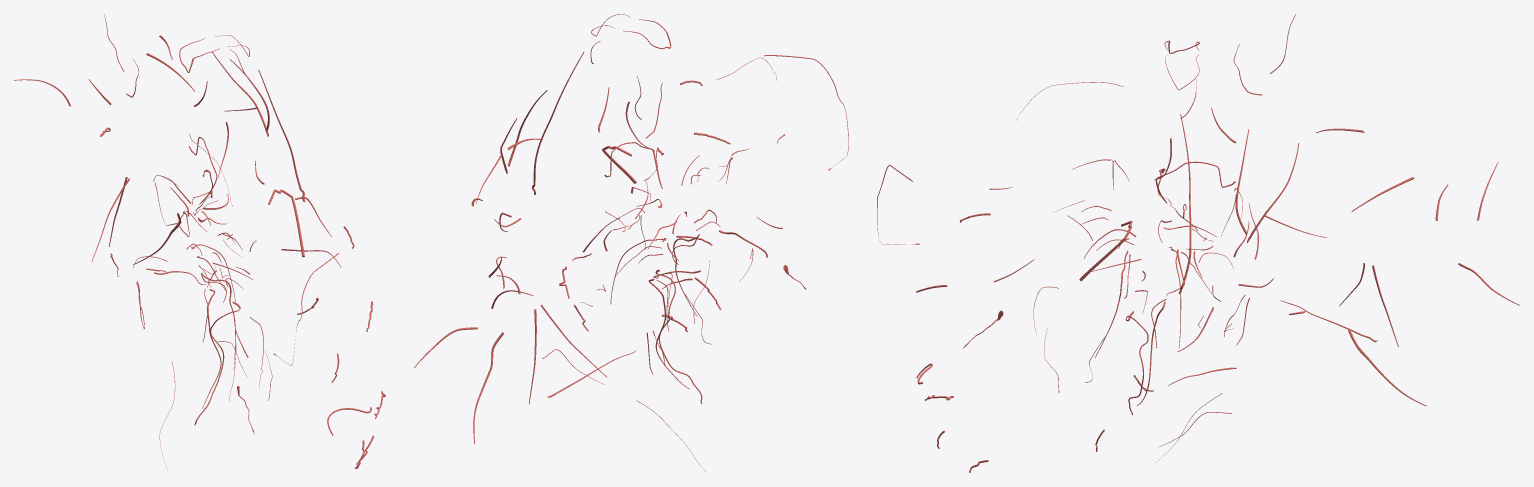
3 views of the same model, side by side, from view 1: azimuth 30°, elevation 25°; view 2: azimuth 150°, elevation 25°; view 3: azimuth 270°, elevation 25° (orthographic). The views are drawn at different scales.
Bounding box in the file's own units: 73.87 × 159 × 207.
